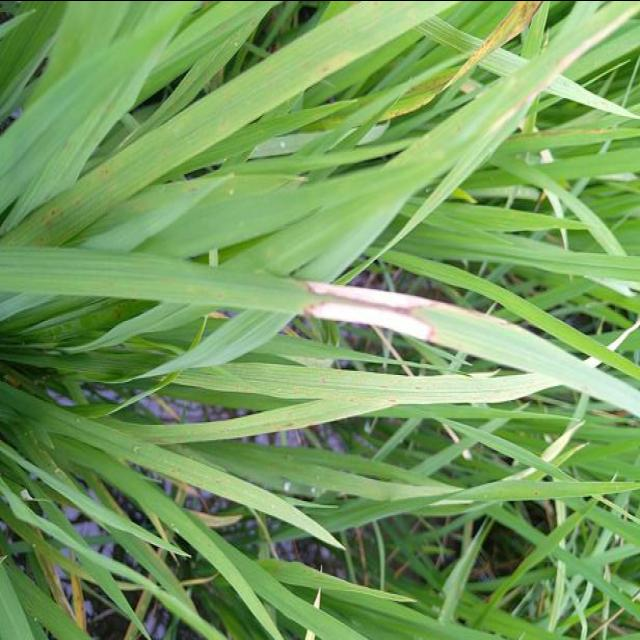Leaf Blight: (379, 0, 543, 119), (305, 281, 447, 344)
